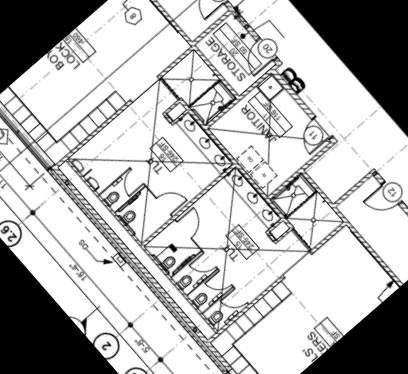door: (359, 180, 403, 225), (234, 38, 276, 81), (172, 204, 211, 243), (151, 181, 190, 220), (186, 247, 221, 282), (114, 166, 148, 200), (184, 0, 229, 25), (216, 286, 249, 318), (202, 267, 234, 300)
wall: (50, 163, 237, 374), (298, 169, 405, 290), (130, 0, 242, 101), (172, 92, 271, 203), (138, 162, 237, 250), (204, 270, 288, 346), (52, 95, 136, 170), (264, 133, 344, 204), (189, 8, 234, 50), (305, 219, 349, 259), (153, 44, 196, 83)
